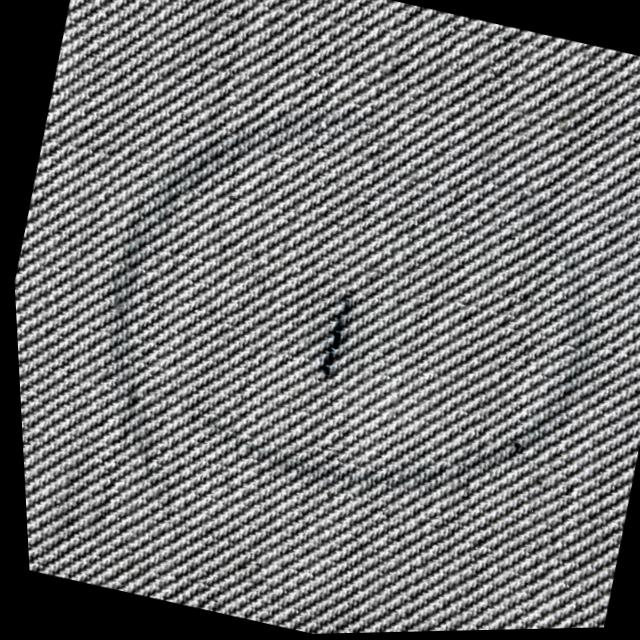Hole: (308, 293, 348, 381)
